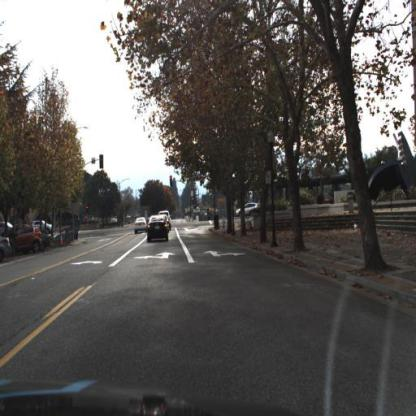car: (5, 223, 43, 256), (12, 226, 42, 252), (146, 211, 169, 244), (235, 198, 264, 219), (30, 218, 56, 236), (234, 201, 262, 217), (30, 219, 53, 237), (132, 214, 148, 235)
trafficLight-Red: (168, 174, 174, 189), (169, 176, 173, 188)
